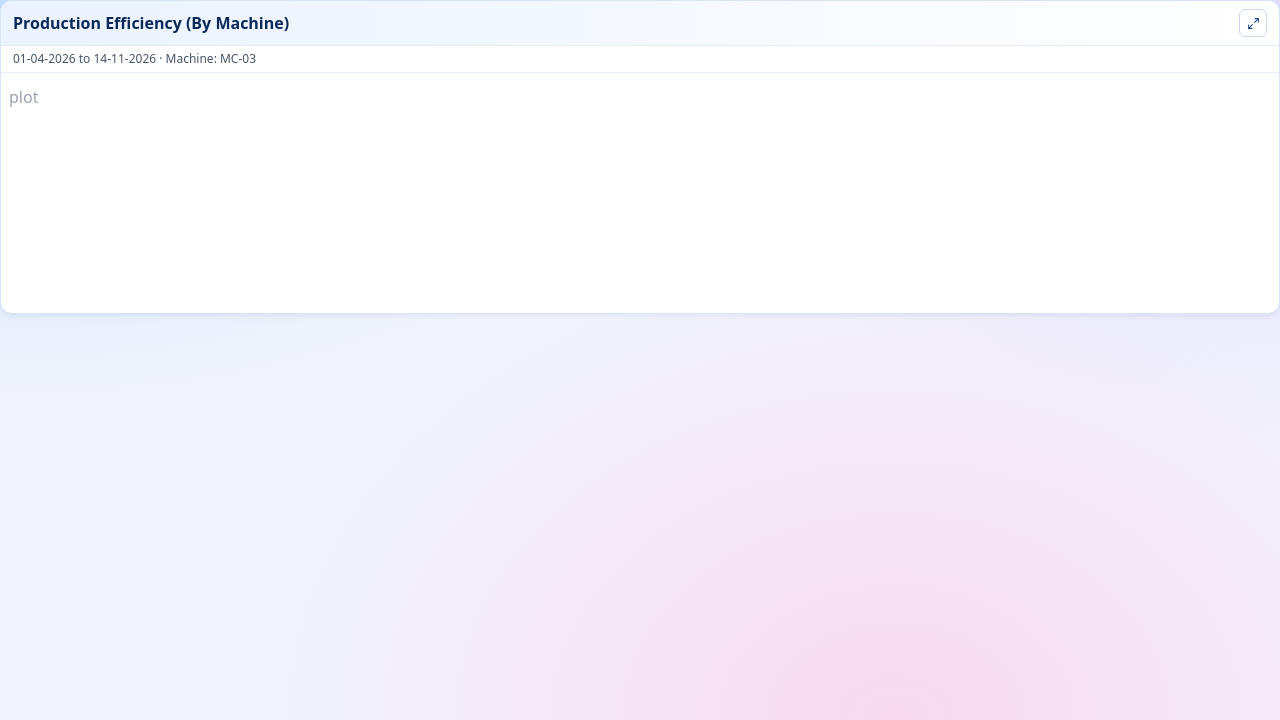
Expand modal › locks page scroll while open and restores it on close
What coordinates should you click on to do the following:
click the button named "Expand chart"
I would click on:
 (1253, 23)
Its box is [1239,9,1267,37].
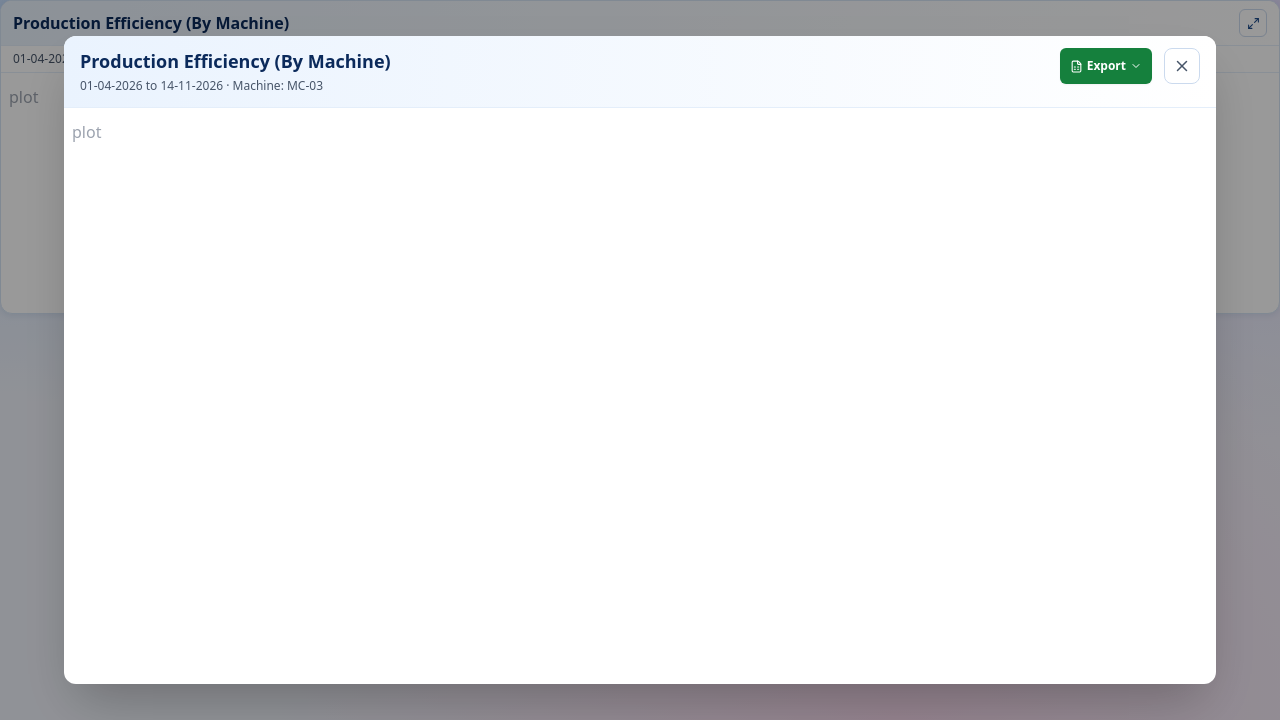
What coordinates should you click on to do the following:
click the button named "Close"
I would click on:
 (1182, 66)
Its box is [1164,48,1200,84].
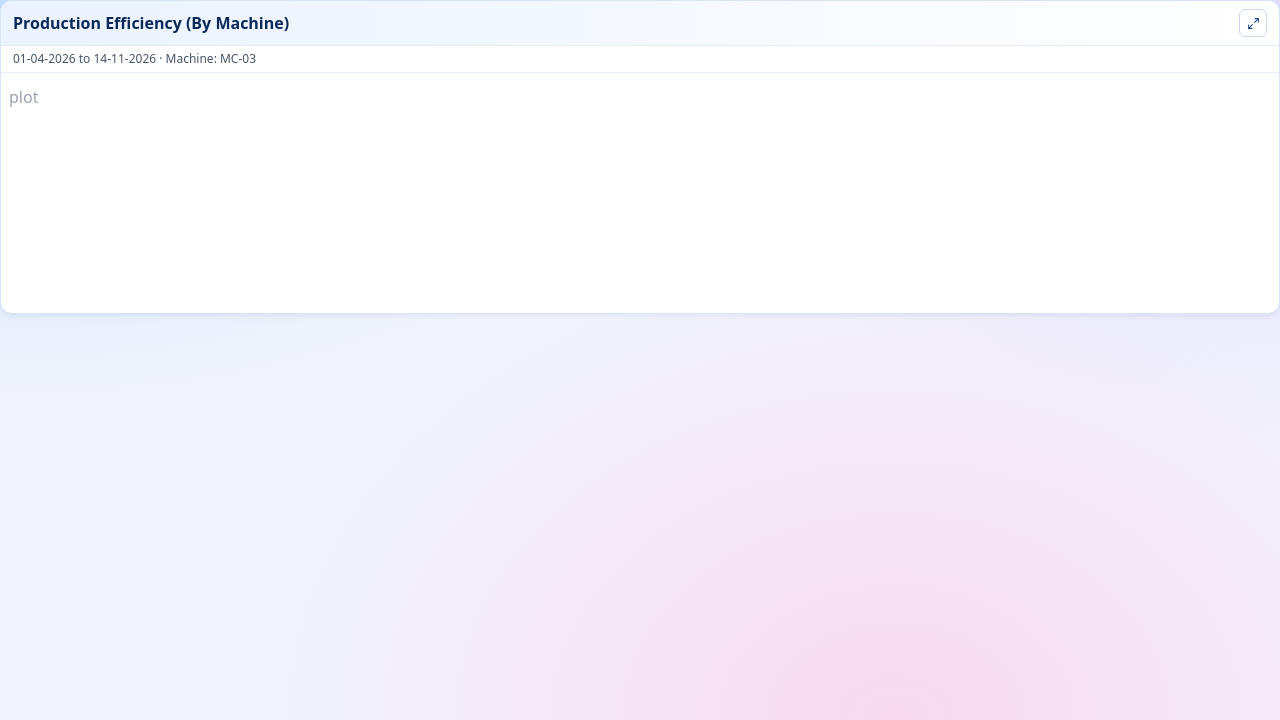
Now the dialog is gone
